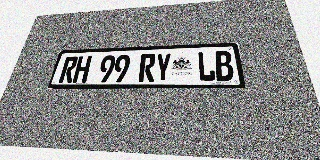9: (112, 54, 131, 82), (97, 55, 116, 82)
B: (214, 51, 235, 81)
H: (72, 56, 92, 83)
L: (197, 51, 216, 81)
R: (58, 56, 79, 83), (138, 53, 156, 82)
Y: (154, 53, 171, 82)
